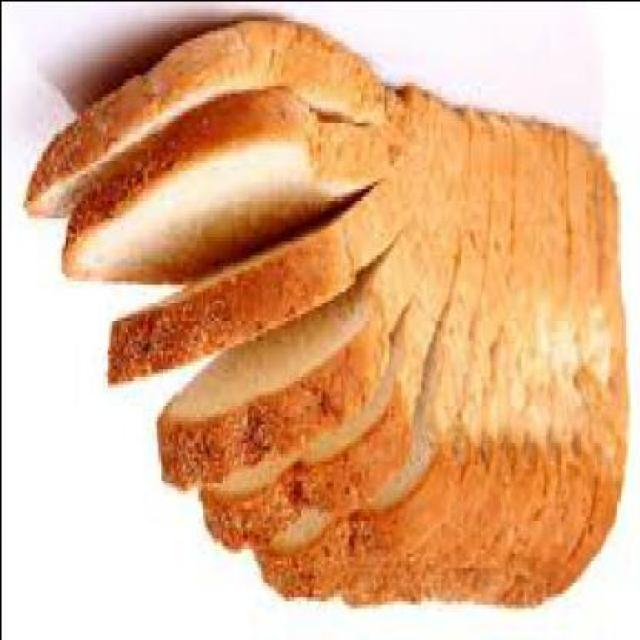BIODEGRADABLE: (333, 124, 624, 610), (196, 110, 484, 552), (252, 118, 510, 604), (151, 103, 463, 489), (101, 84, 437, 393), (20, 22, 378, 228), (57, 88, 383, 287)
